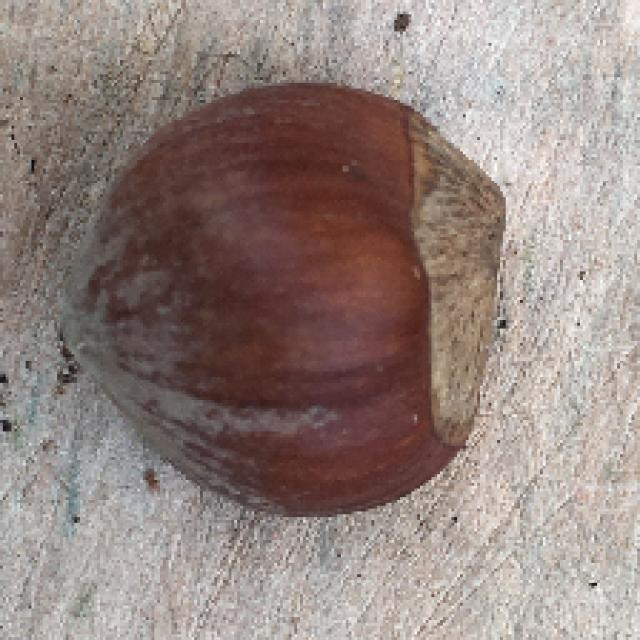qualityHazelnut: (68, 80, 519, 513)
